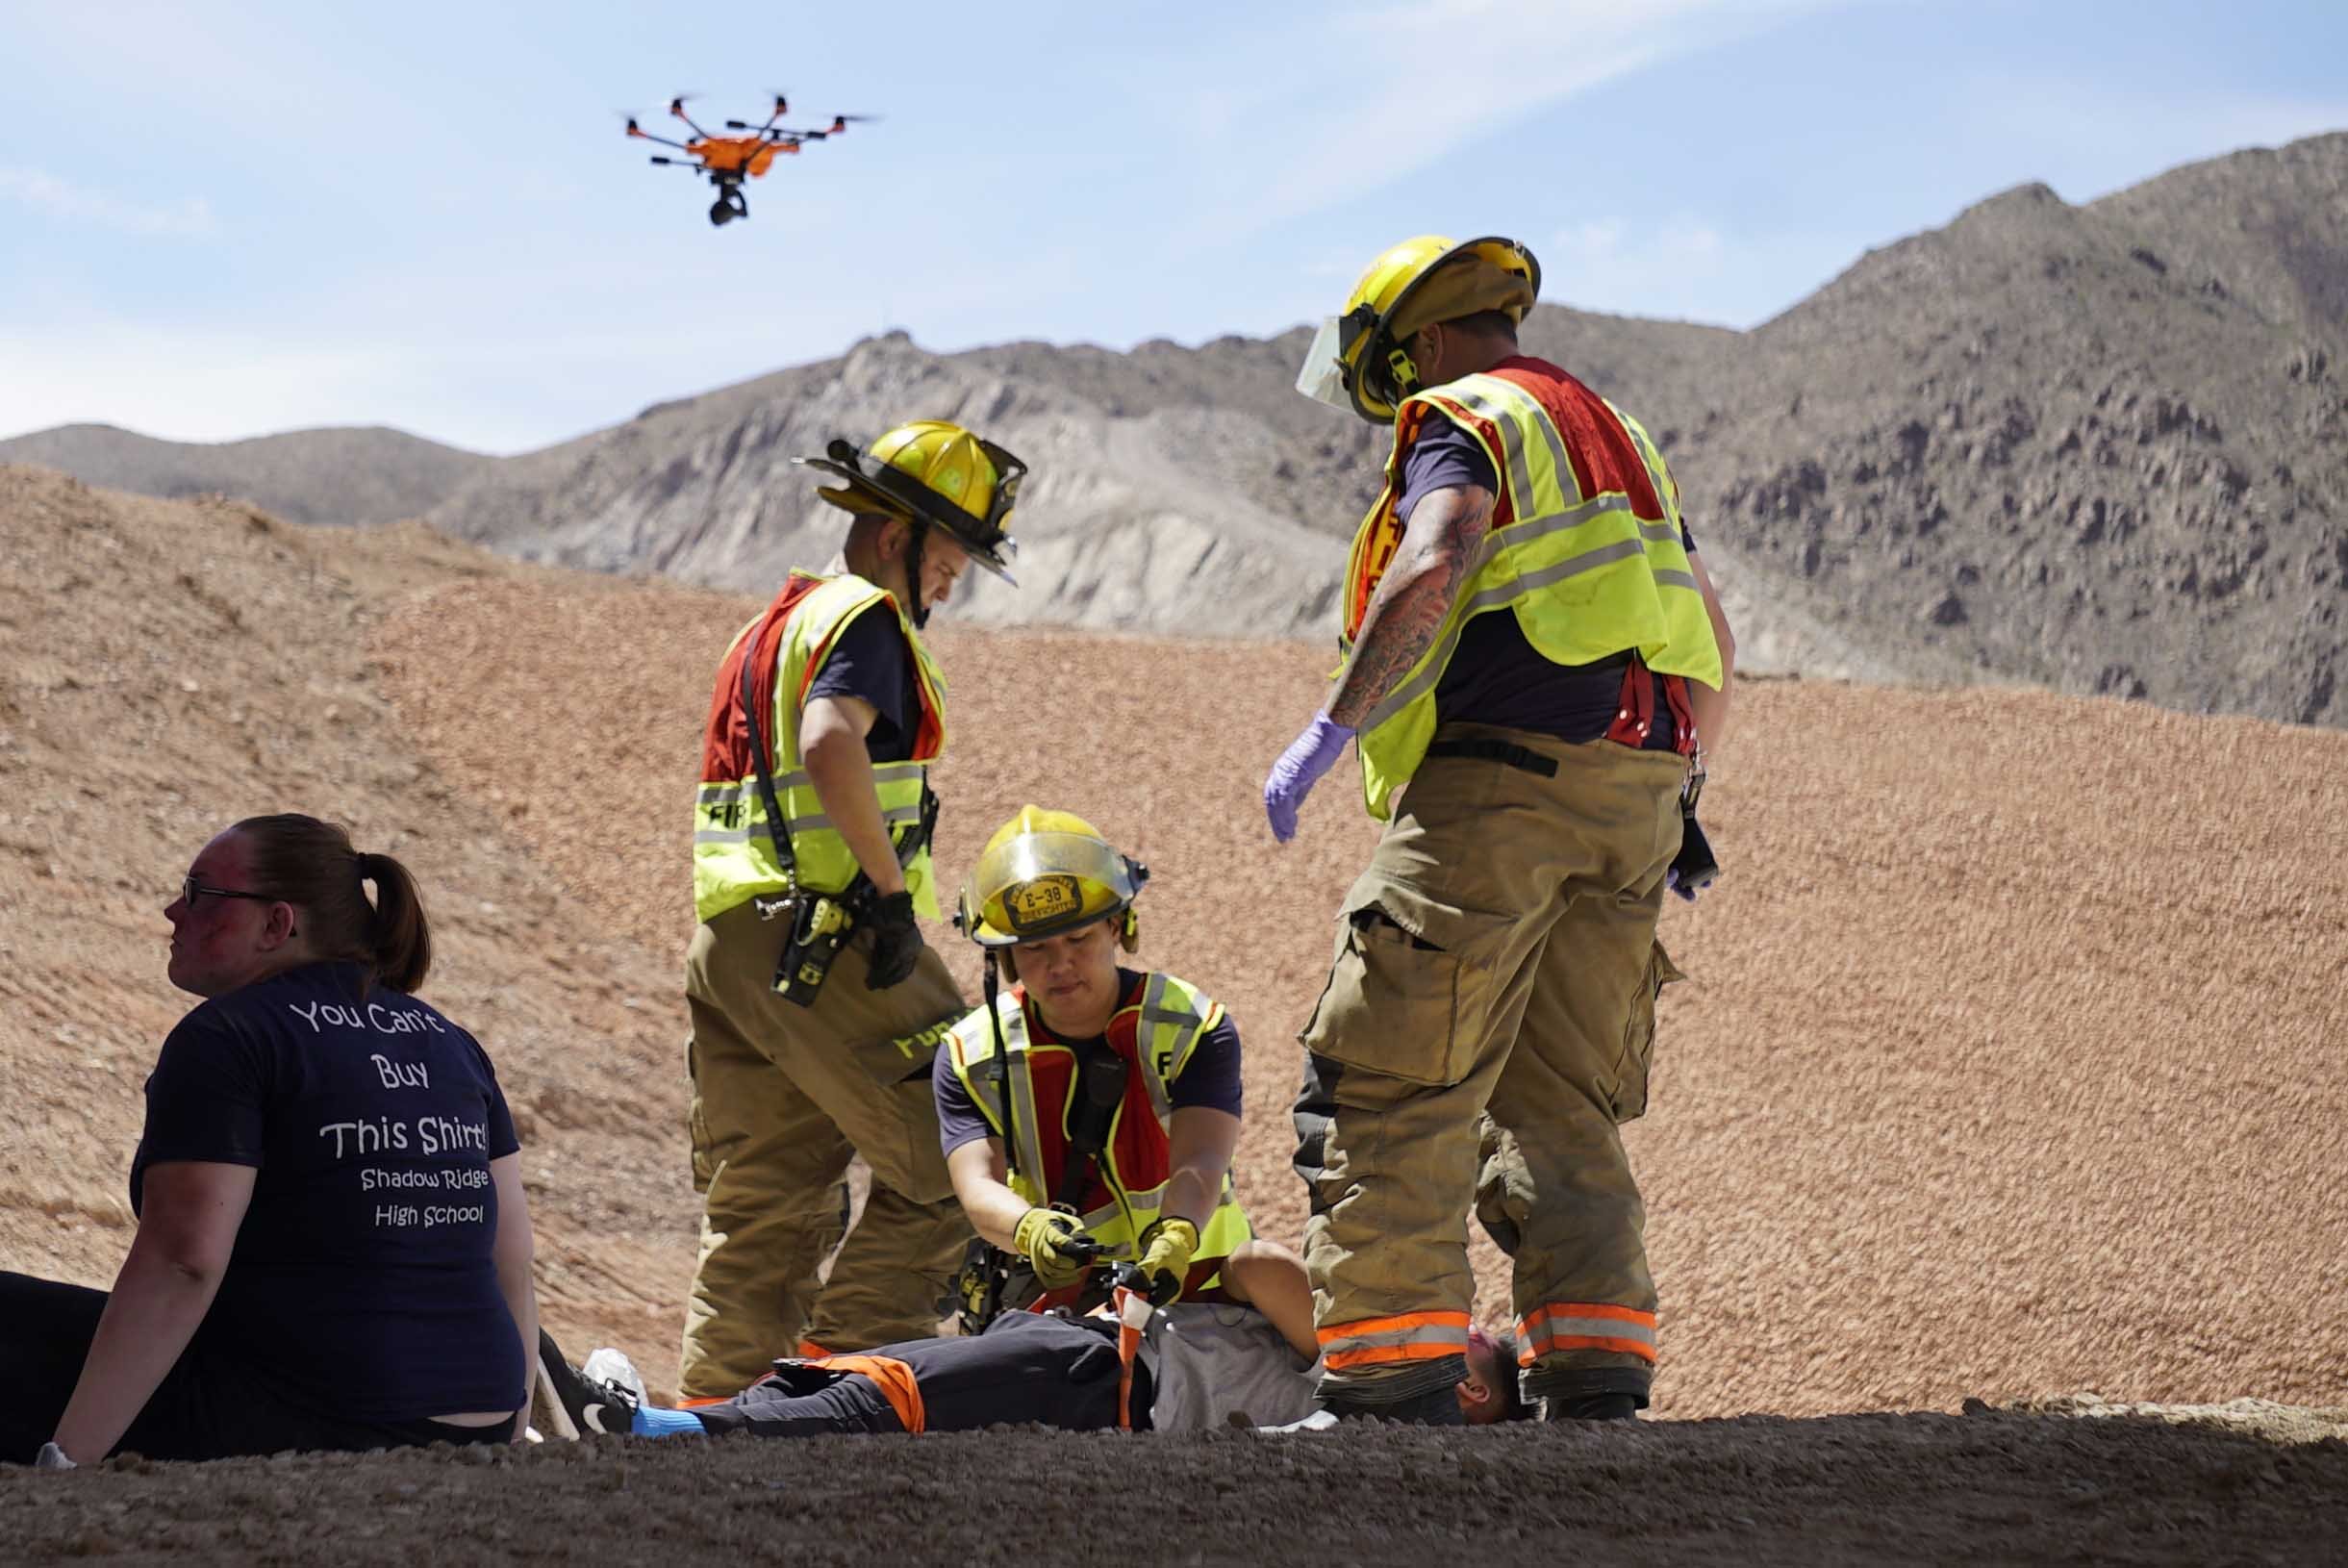drone: (603, 86, 888, 231)
person: (1249, 229, 1732, 1431), (1, 812, 537, 1471), (673, 425, 1035, 1341), (549, 1234, 1549, 1440), (948, 811, 1250, 1341)
